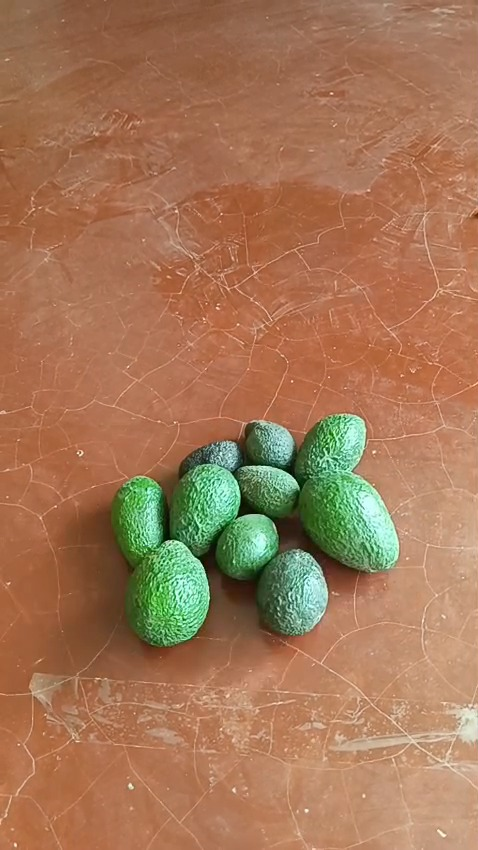Primera: (298, 471, 399, 572), (124, 539, 211, 645), (169, 463, 242, 557)
Segunda: (255, 547, 328, 634), (291, 412, 367, 486), (110, 475, 169, 570)
Tercera: (215, 513, 279, 579), (233, 464, 299, 519), (243, 419, 297, 470), (180, 439, 243, 478)
